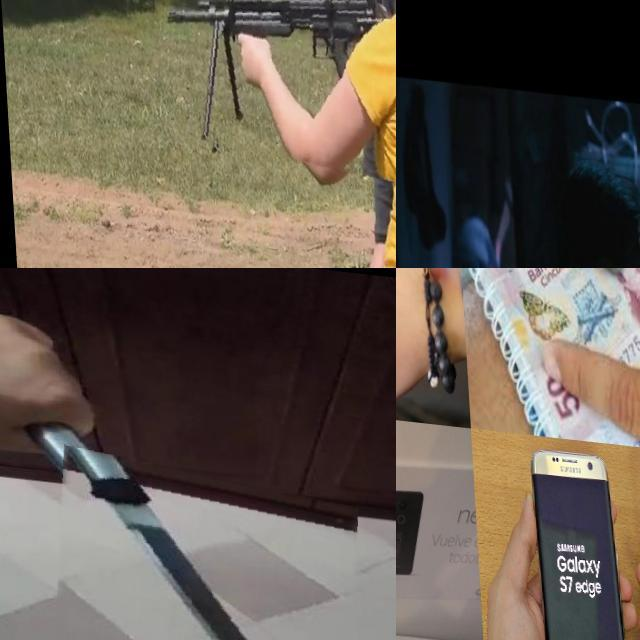-: (41, 445, 360, 640)
gun-knife-thesis - v11 Yolov5 augmented: (138, 0, 396, 178)
